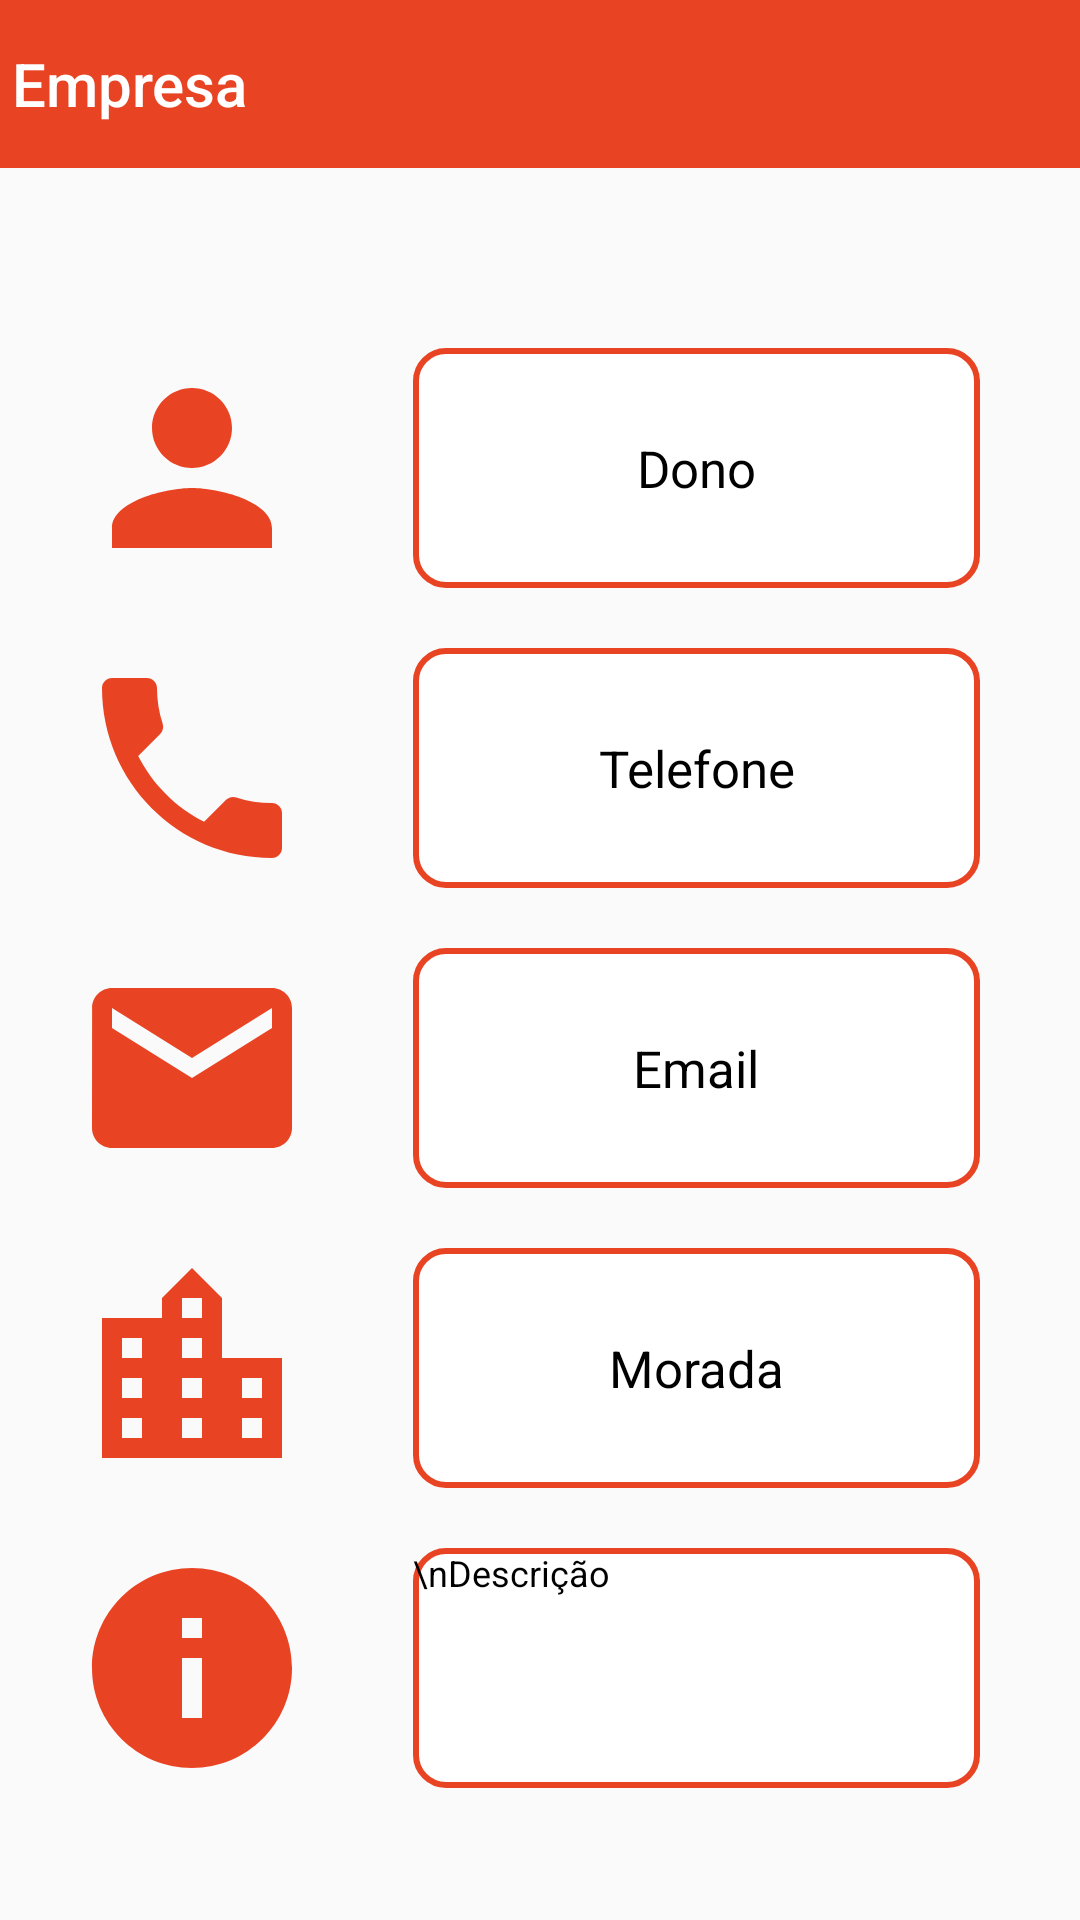

Icon click points for this 1080x1920 phone screenshot, format [x,y]:
info: [192,1668]
local phone: [192,768]
location city: [192,1363]
person: [192,468]
